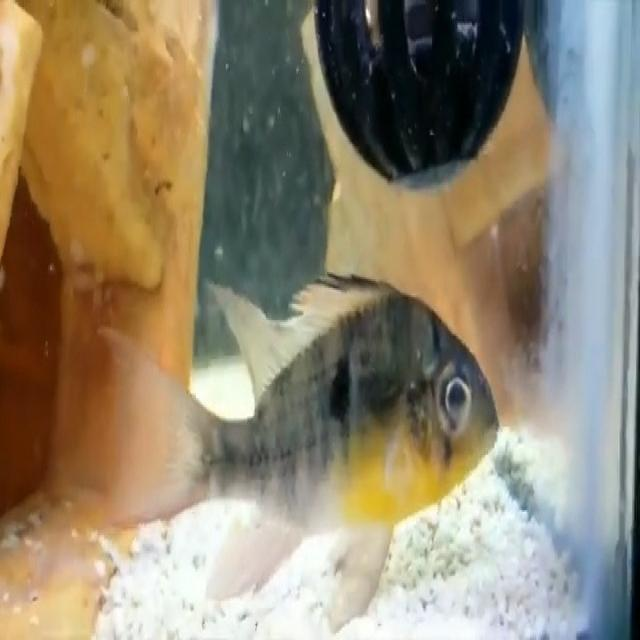fish: (97, 274, 504, 629)
